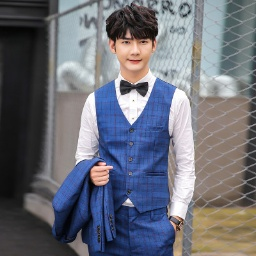face: (103, 5, 162, 72)
